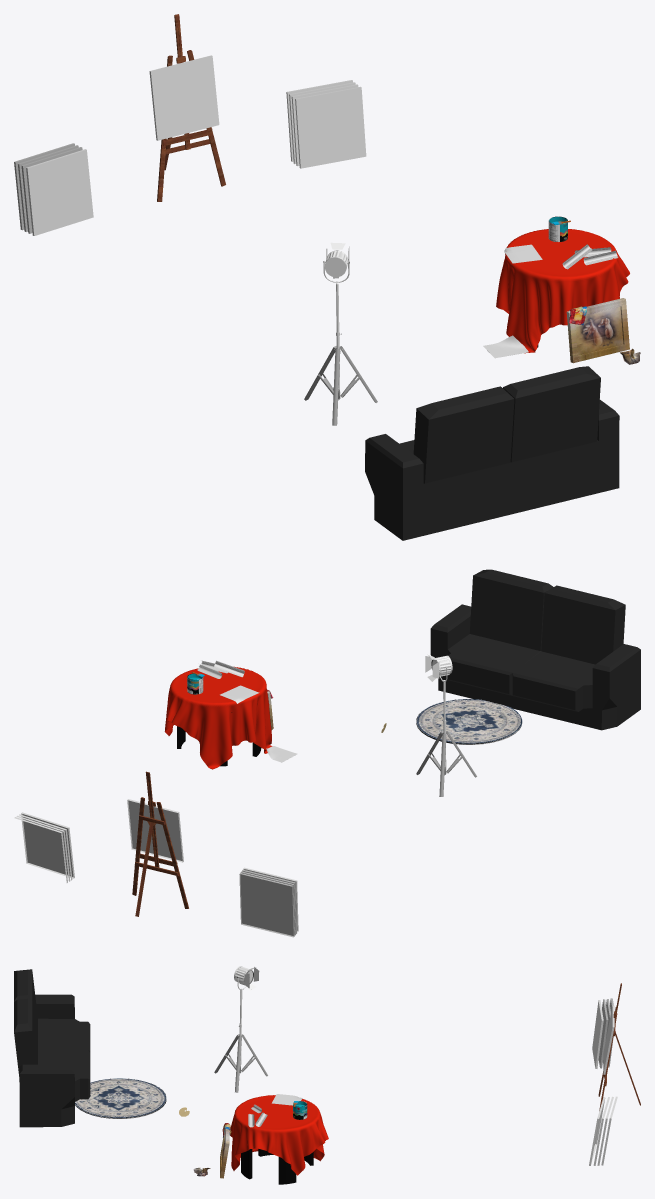
File: furnituresnoshades.glb
3 views of the same model, one above another, from view 1: azimuth 30°, elevation 25°; view 2: azimuth 150°, elevation 25°; view 3: azimuth 270°, elevation 25° (orthographic). The views are drawn at different scales.
Parts seen in each view (by area): view 1: sofa, cover, projectstables.006, projectstables, projectstables.002, picturehands, projector, painttablestand; view 2: sofa, cover, carpet, projectstables.005, projectstables.006, painttablestand, projectstables, projector; view 3: sofa, cover, carpet, projector, desk, painttablestand, projectstables.002, projectstables, projectstables.003, picturehands.
Part boxes in pixels (left/top/right/bottom): sofa: left=365, top=366, right=619, bottom=540; cover: left=496, top=229, right=629, bottom=353; projectstables.006: left=295, top=86, right=366, bottom=168; projectstables: left=149, top=55, right=219, bottom=140; projectstables.002: left=26, top=149, right=93, bottom=235; picturehands: left=566, top=298, right=629, bottom=363; projector: left=304, top=242, right=377, bottom=425; painttablestand: left=157, top=14, right=225, bottom=201; sofa: left=430, top=569, right=640, bottom=730; cover: left=164, top=666, right=272, bottom=769; carpet: left=416, top=699, right=522, bottom=744; projectstables.005: left=239, top=873, right=294, bottom=937; projectstables.006: left=21, top=812, right=74, bottom=878; painttablestand: left=132, top=771, right=188, bottom=916; projectstables: left=127, top=799, right=183, bottom=862; projector: left=416, top=654, right=476, bottom=796; sofa: left=14, top=969, right=90, bottom=1127; cover: left=230, top=1095, right=328, bottom=1175; carpet: left=75, top=1078, right=166, bottom=1118; projector: left=214, top=966, right=267, bottom=1092; desk: left=241, top=1149, right=313, bottom=1184; painttablestand: left=598, top=983, right=640, bottom=1110; projectstables.002: left=592, top=1000, right=603, bottom=1068; projectstables: left=603, top=1005, right=614, bottom=1074; projectstables.003: left=598, top=999, right=608, bottom=1068; picturehands: left=220, top=1128, right=229, bottom=1178.
Bounding box in the file's own units: 1.58 × 0.6955 × 2.99.
Materials: 21 (6 with a texture image).
